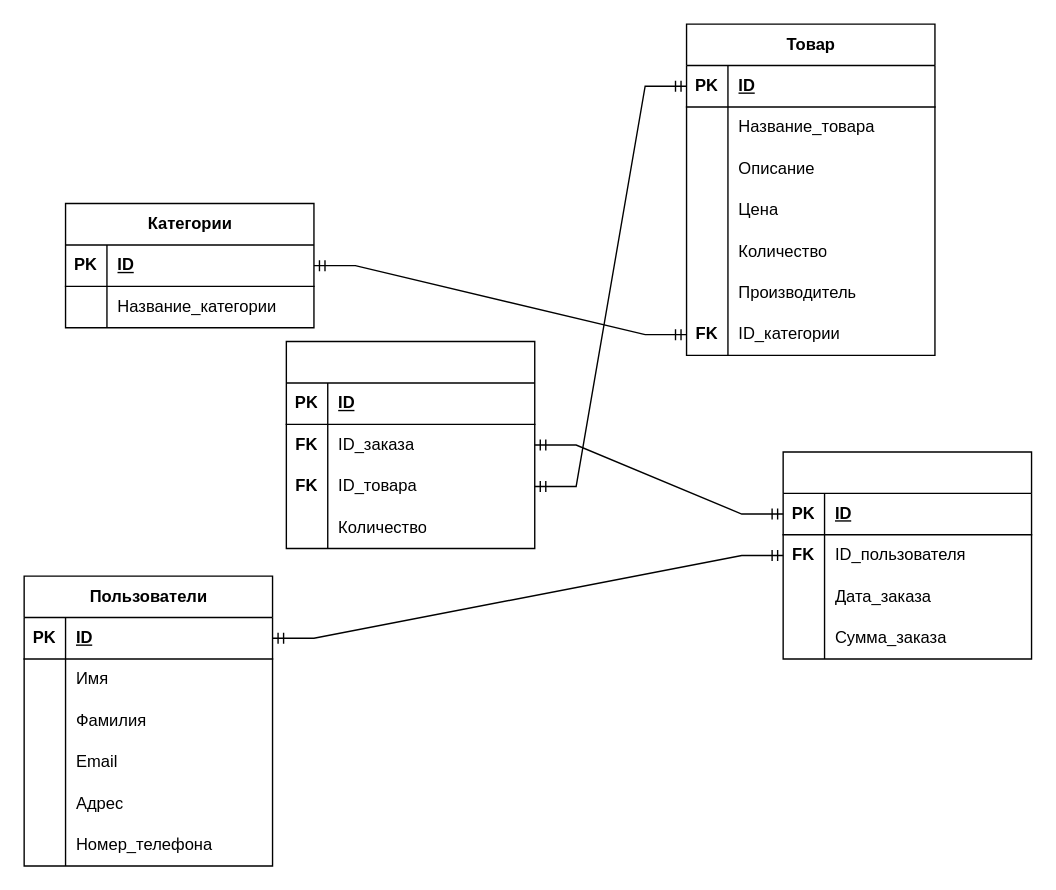
Image size: 1056x890. Some labels were removed from this diagram. The shapes that lost their labels are listed below. From the top down, each one's box as (x1, y1, x2, y2) in pixels, then its label:
(285, 340, 535, 549): Детали_заказа
(782, 451, 1032, 659): Заказы
